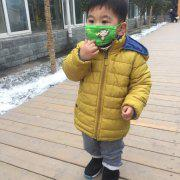OK: (86, 12, 122, 50)
